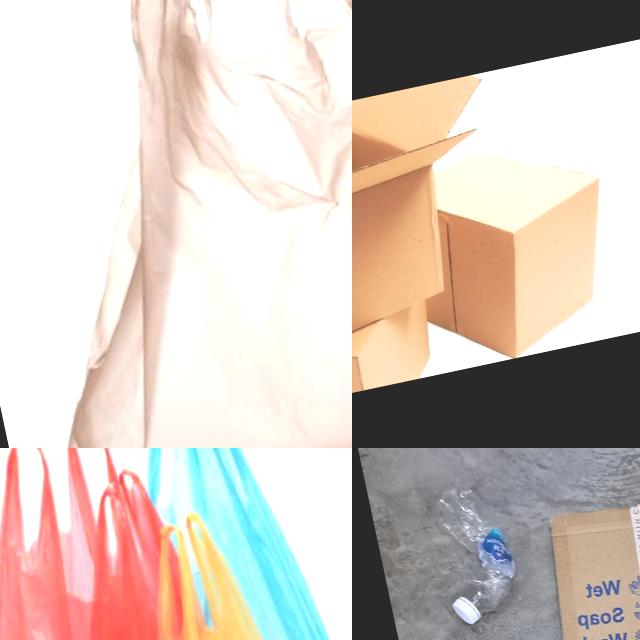garrafa plástica: (369, 124, 632, 378), (352, 72, 531, 391), (430, 478, 526, 618)
papelão: (497, 452, 640, 640)
sacola plástica: (0, 0, 352, 448), (8, 448, 245, 640), (125, 448, 352, 640), (0, 448, 201, 640), (122, 510, 351, 640)
tampa plástica: (450, 592, 481, 628)
